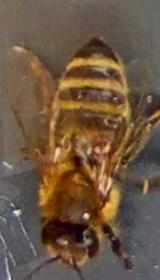varroa_mite: (86, 132, 118, 158)
